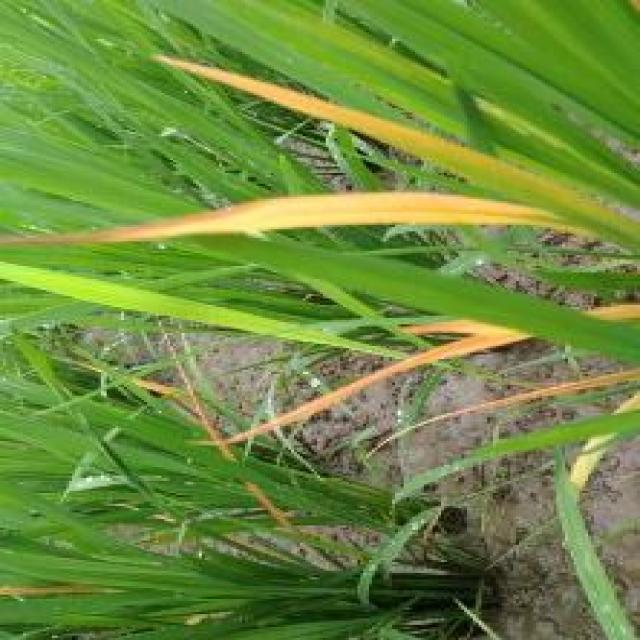Tungro: (219, 290, 640, 452), (158, 33, 580, 168), (1, 170, 544, 256)
